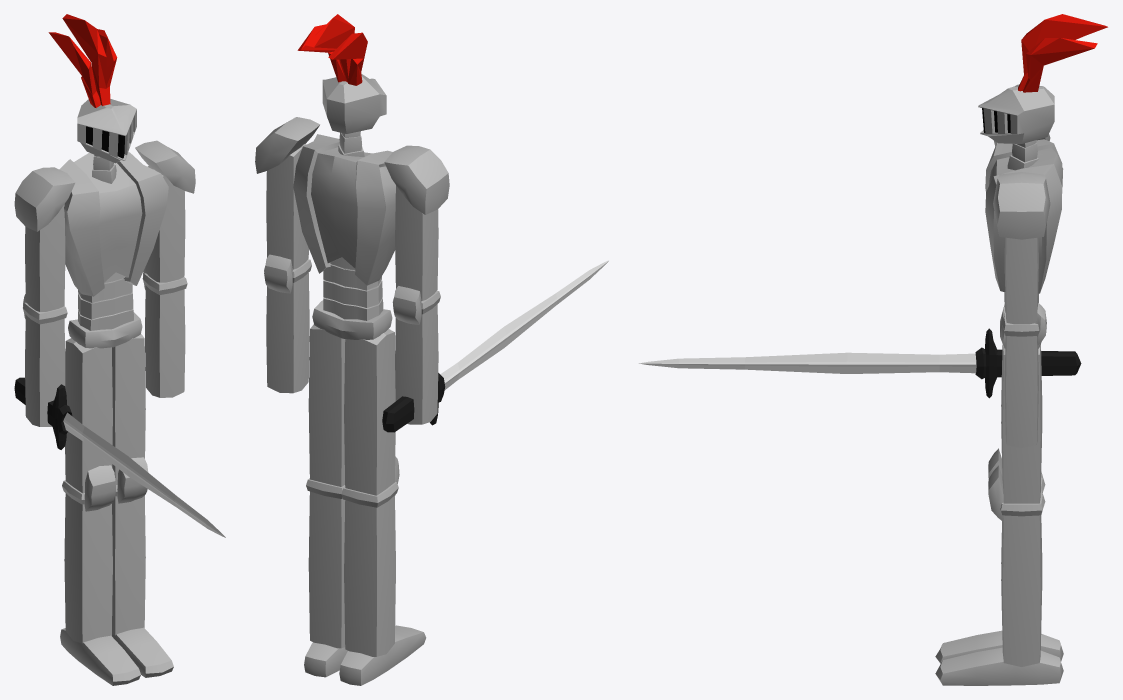
The model's file is Knight(1)(1).fbx.
3 views of the same model, side by side, from view 1: azimuth 30°, elevation 25°; view 2: azimuth 150°, elevation 25°; view 3: azimuth 270°, elevation 25° (orthographic). The views are drawn at different scales.
Visible parts, largest first — view 1: Cube.001, Cube.023, Cube.006, Cube.005, Cube, Cube.021, Cube.020, Cube.015, Cube.012, Cube.018, Cube.007, Cube.024 (+2 smaller); view 2: Cube.001, Cube.006, Cube.023, Cube.021, Cube.005, Cube.020, Cube.015, Cube, Cube.018, Cube.012, Cube.007, Cube.003 (+2 smaller); view 3: Cube.006, Cube.020, Cube, Cube.012, Cube.015, Cube.001, Cube.024, Cube.018, Cube.007, Cube.004.
Part boxes in pixels (x1,y1,x2,y2): Cube.001: (59, 152, 168, 330); Cube.023: (62, 465, 115, 643); Cube.006: (14, 294, 225, 537); Cube.005: (14, 167, 75, 311); Cube: (48, 14, 136, 163); Cube.021: (65, 338, 112, 493); Cube.020: (112, 457, 148, 635); Cube.015: (142, 267, 187, 397); Cube.012: (135, 140, 195, 282); Cube.018: (112, 334, 145, 484); Cube.007: (60, 628, 140, 685); Cube.024: (112, 627, 173, 677); Cube.001: (293, 134, 395, 320); Cube.006: (382, 260, 608, 432); Cube.023: (341, 456, 399, 656); Cube.021: (344, 329, 395, 495); Cube.005: (384, 145, 449, 300); Cube.020: (306, 478, 345, 648); Cube.015: (264, 254, 311, 393); Cube: (297, 14, 386, 133); Cube.018: (308, 324, 345, 486); Cube.012: (255, 117, 320, 269); Cube.007: (339, 625, 426, 685); Cube.003: (312, 300, 392, 339); Cube.006: (639, 328, 1081, 398); Cube.020: (988, 465, 1045, 666); Cube: (978, 14, 1107, 143); Cube.012: (993, 172, 1050, 324); Cube.015: (1002, 303, 1046, 447); Cube.001: (985, 139, 1063, 311); Cube.024: (935, 647, 1063, 685); Cube.018: (1001, 345, 1042, 503); Cube.007: (935, 630, 1063, 663); Cube.004: (1007, 140, 1038, 170).
Size of the model in its own units: 521 by 1888 by 1225.
